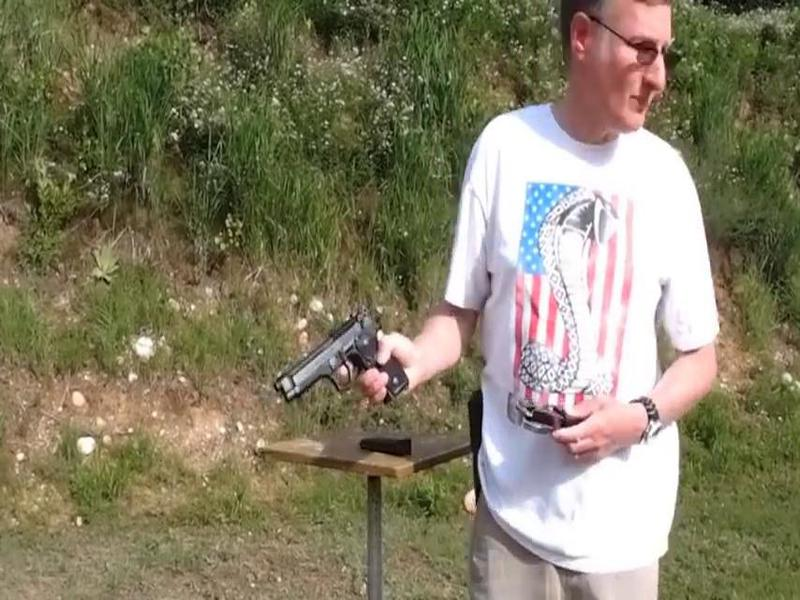Pistola: (256, 295, 418, 411)
